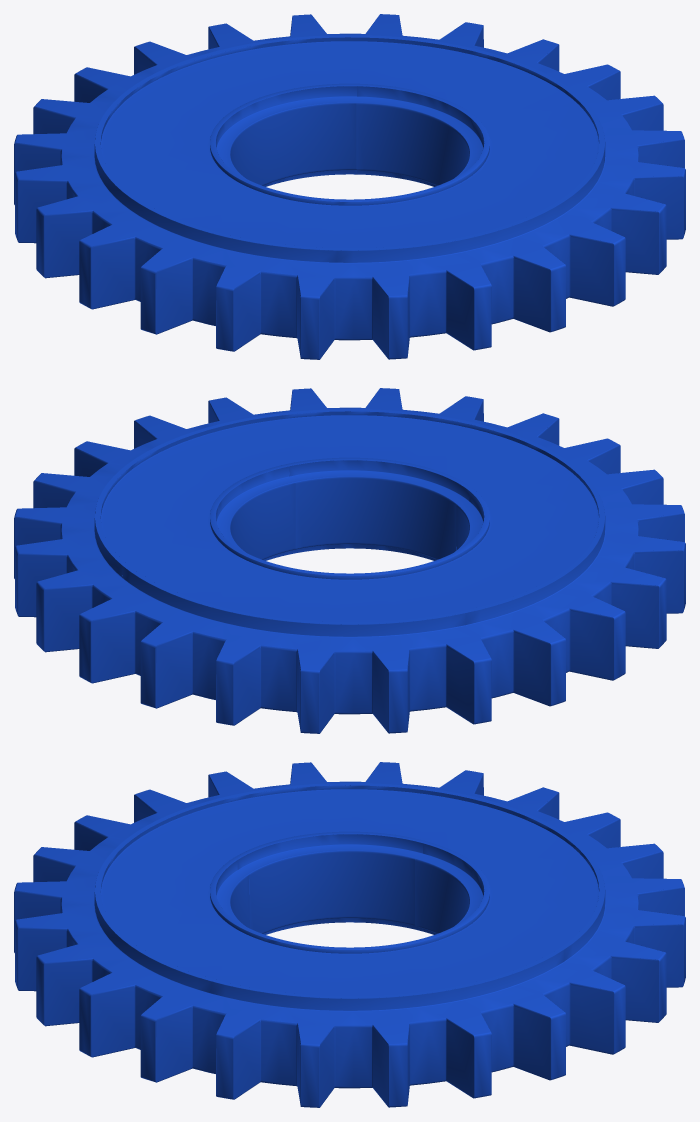
File: gearMiddle2.glb
3 renders of one model, top to bottom at view 1: azimuth 30°, elevation 25°; view 2: azimuth 150°, elevation 25°; view 3: azimuth 270°, elevation 25°, orthographic.
Visible parts, largest first — view 1: Object_14; view 2: Object_14; view 3: Object_14.
Boxes of the visible parts, box(x1,y1,x2,y2) form: Object_14: box(14, 14, 685, 359); Object_14: box(14, 388, 685, 733); Object_14: box(14, 762, 685, 1107).
Size of the model in its own units: 1.35 by 0.1955 by 1.35.
